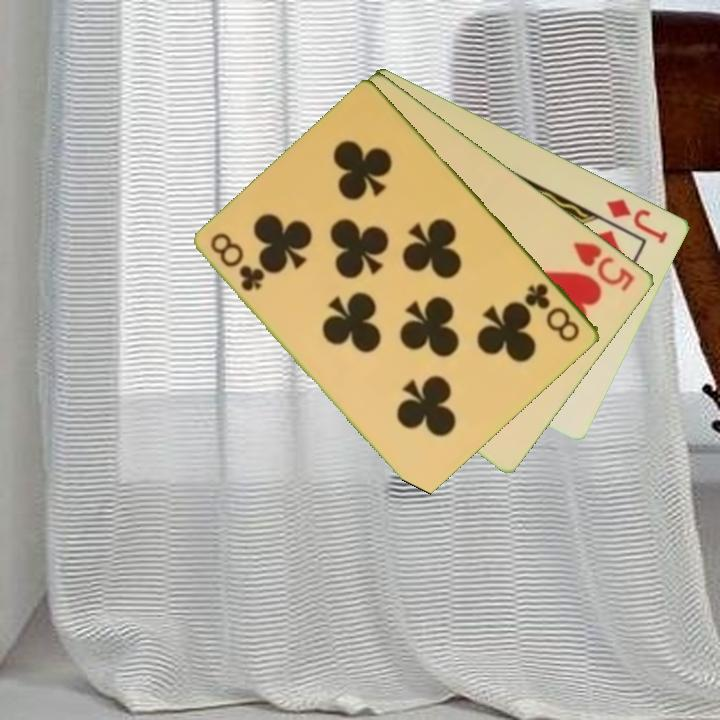5h: (570, 238, 638, 294)
8c: (522, 279, 584, 346), (207, 229, 267, 295)
Jd: (603, 194, 672, 247)
